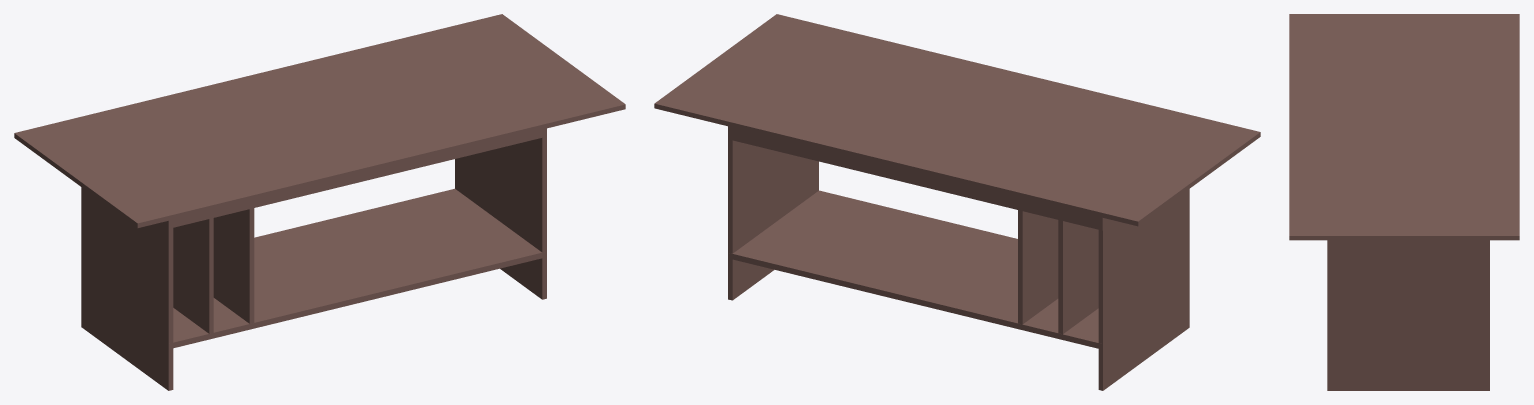
The model's file is table.glb.
3 renders of one model, left to right at view 1: azimuth 30°, elevation 25°; view 2: azimuth 150°, elevation 25°; view 3: azimuth 270°, elevation 25°, orthographic. The views are drawn at different scales.
Visible parts, largest first — view 1: pCube108; view 2: pCube108; view 3: pCube108.
Boxes of the visible parts, bbox=[...] form: pCube108: bbox=[14, 14, 625, 390]; pCube108: bbox=[654, 14, 1260, 390]; pCube108: bbox=[1289, 14, 1519, 390].
Bounding box in the file's own units: 1.49 × 0.5678 × 0.652.
